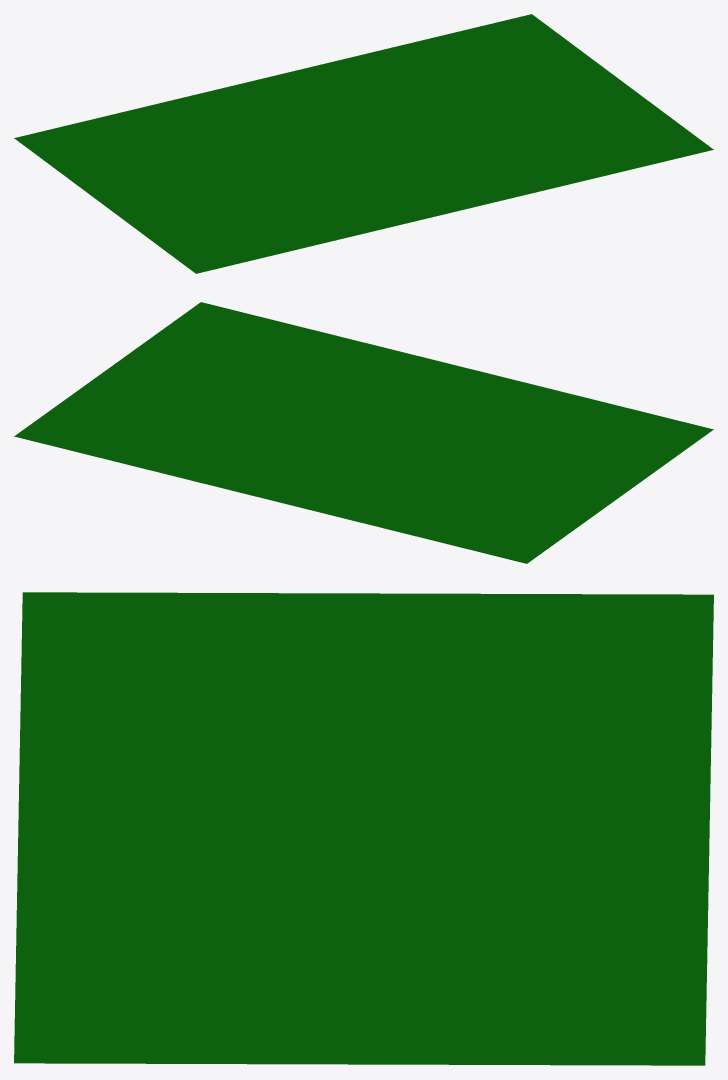
File: GRASS1.fbx
3 views of the same model, one above another, from view 1: azimuth 30°, elevation 25°; view 2: azimuth 150°, elevation 25°; view 3: azimuth 270°, elevation 25° (orthographic). The views are drawn at different scales.
Visible parts, largest first — view 1: pPlane1; view 2: pPlane1; view 3: pPlane1.
Boxes of the visible parts, <box> form: pPlane1: <box>14,14,713,273</box>; pPlane1: <box>14,302,713,563</box>; pPlane1: <box>14,592,713,1065</box>.
Bounding box in the file's own units: 21.87 × 2.95e-15 × 13.67.
